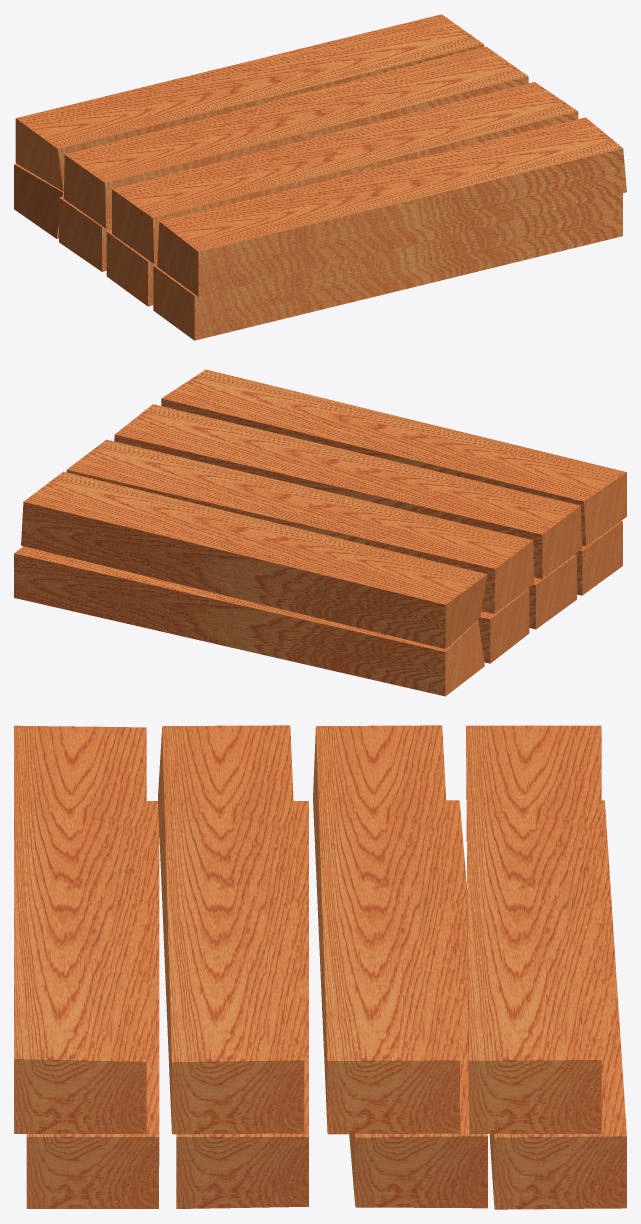
The model's file is planks.fbx.
The picture shows the model from 3 angles, top to bottom: view 1: azimuth 30°, elevation 25°; view 2: azimuth 150°, elevation 25°; view 3: azimuth 270°, elevation 25°; orthographic projection. The views are drawn at different scales.
Visible parts, largest first — view 1: planks; view 2: planks; view 3: planks.
Boxes of the visible parts, left/top/right/bottom form: planks: left=14, top=14, right=626, bottom=340; planks: left=14, top=369, right=626, bottom=696; planks: left=14, top=725, right=626, bottom=1209.
Bounding box in the file's own units: 301 × 61.27 × 231.
